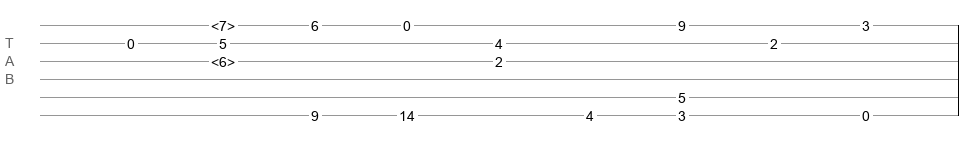0: (127, 36, 135, 46), (403, 18, 411, 28), (862, 108, 870, 118)
14: (399, 108, 415, 118)
2: (495, 54, 503, 64), (770, 36, 778, 46)
3: (678, 108, 686, 118), (862, 18, 870, 28)
4: (495, 36, 503, 46), (586, 108, 594, 118)
5: (219, 36, 227, 46), (678, 90, 686, 100)
6: (311, 18, 319, 28)
9: (311, 108, 319, 118), (678, 18, 686, 28)
harmonic: (211, 18, 235, 28), (211, 54, 235, 64)
